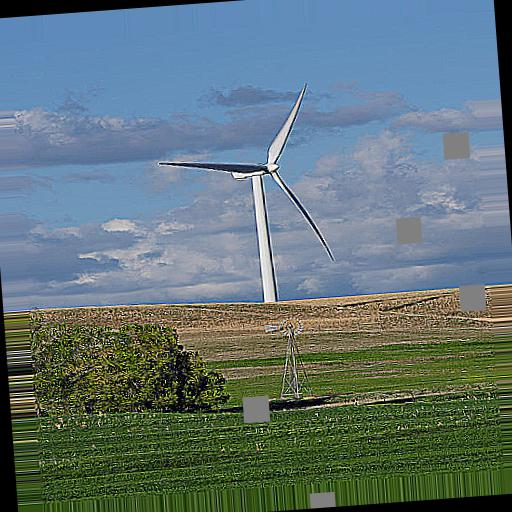wind turbine: (158, 81, 336, 300)
